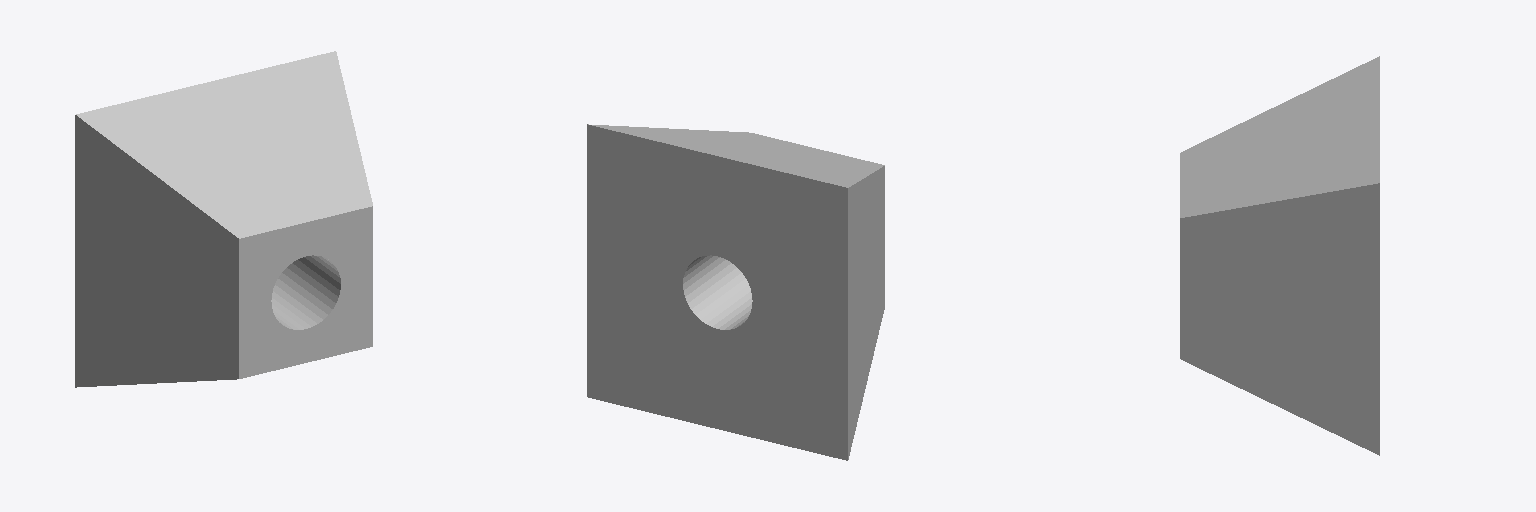
Rendered from Teil_4.obj.
3 renders of one model, left to right at view 1: azimuth 30°, elevation 25°; view 2: azimuth 150°, elevation 25°; view 3: azimuth 270°, elevation 25°, orthographic.
Visible parts, largest first — view 1: Teil_4; view 2: Teil_4; view 3: Teil_4.
Part boxes in pixels (x1,y1,x2,y2): Teil_4: (75, 51, 372, 387); Teil_4: (587, 124, 884, 460); Teil_4: (1180, 56, 1379, 455).
Size of the model in its own units: 0.03 by 0.03 by 0.02.